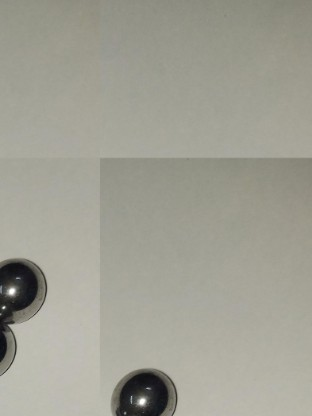ironball: (109, 362, 182, 414), (0, 250, 49, 323), (0, 318, 19, 378)
